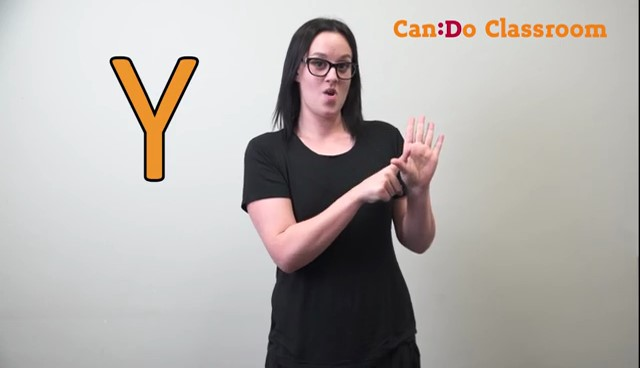Y: (356, 110, 461, 212)
